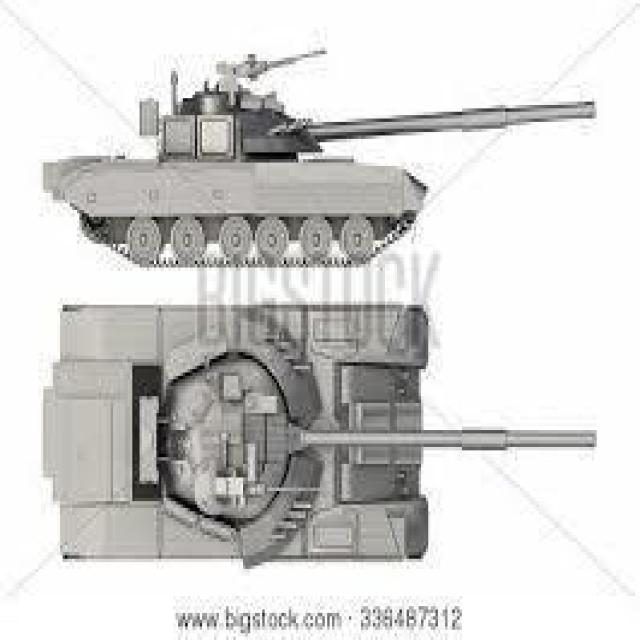Tanks: (27, 284, 611, 592), (25, 21, 620, 274)
